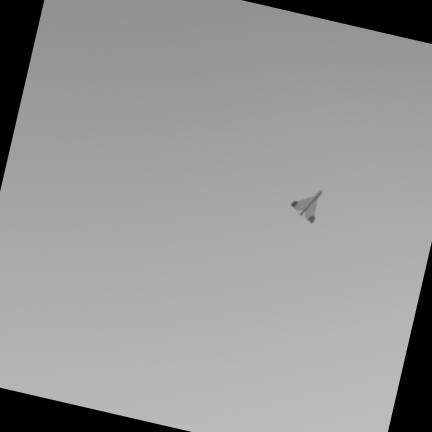Shahed: (291, 191, 322, 223)
